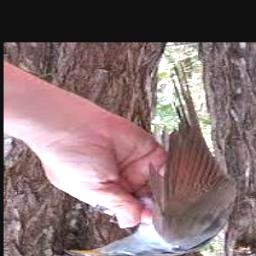Cuckoo: (66, 63, 237, 256)
